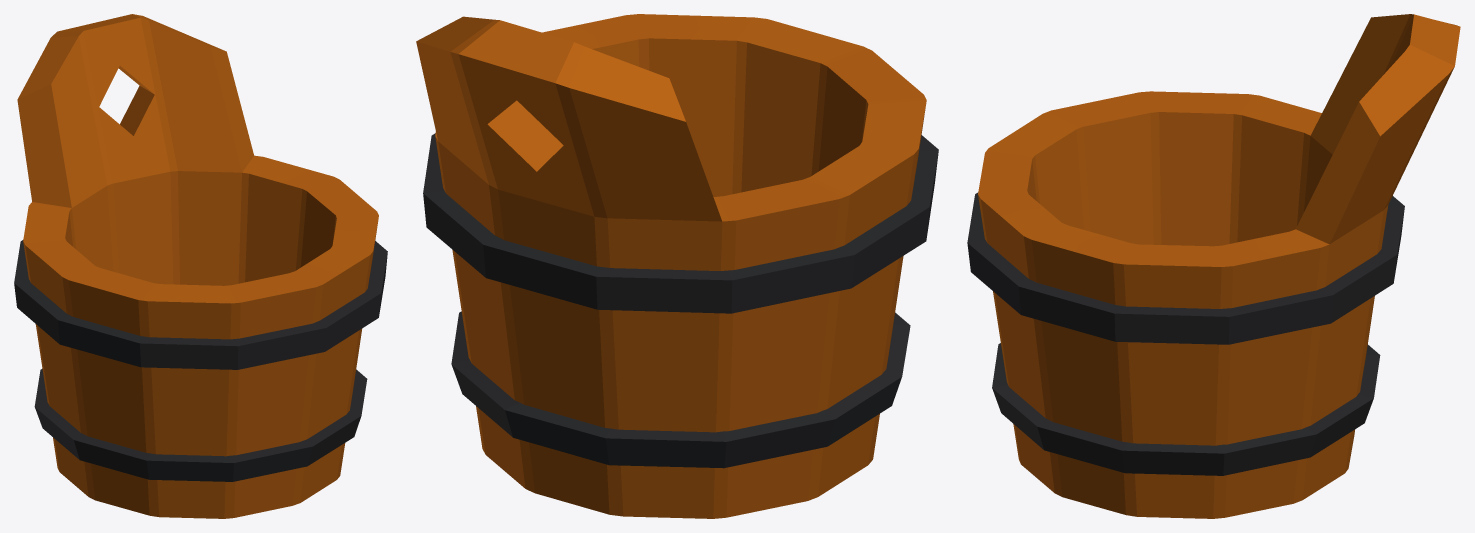
File: Bucket.fbx
3 views of the same model, side by side, from view 1: azimuth 30°, elevation 25°; view 2: azimuth 150°, elevation 25°; view 3: azimuth 270°, elevation 25° (orthographic). The views are drawn at different scales.
Visible parts, largest first — view 1: Bucket; view 2: Bucket; view 3: Bucket.
Part boxes in pixels (x1=…): Bucket: x1=14, y1=14, x2=387, y2=518; Bucket: x1=416, y1=14, x2=938, y2=518; Bucket: x1=967, y1=14, x2=1460, y2=518.
Bounding box in the file's own units: 18.78 × 20.08 × 21.21.
